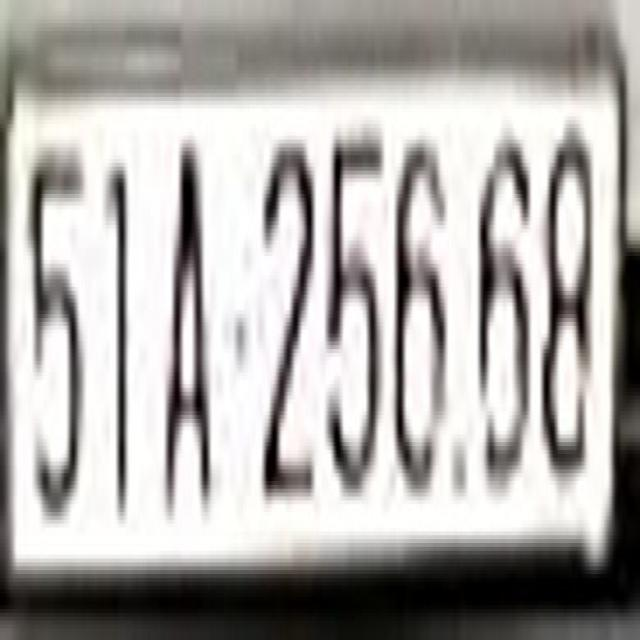1: (106, 135, 130, 528)
2: (258, 143, 318, 520)
5: (328, 112, 382, 500), (28, 132, 82, 516)
6: (392, 116, 446, 496), (477, 105, 529, 481)
8: (540, 112, 591, 485)
A: (159, 136, 214, 512)
